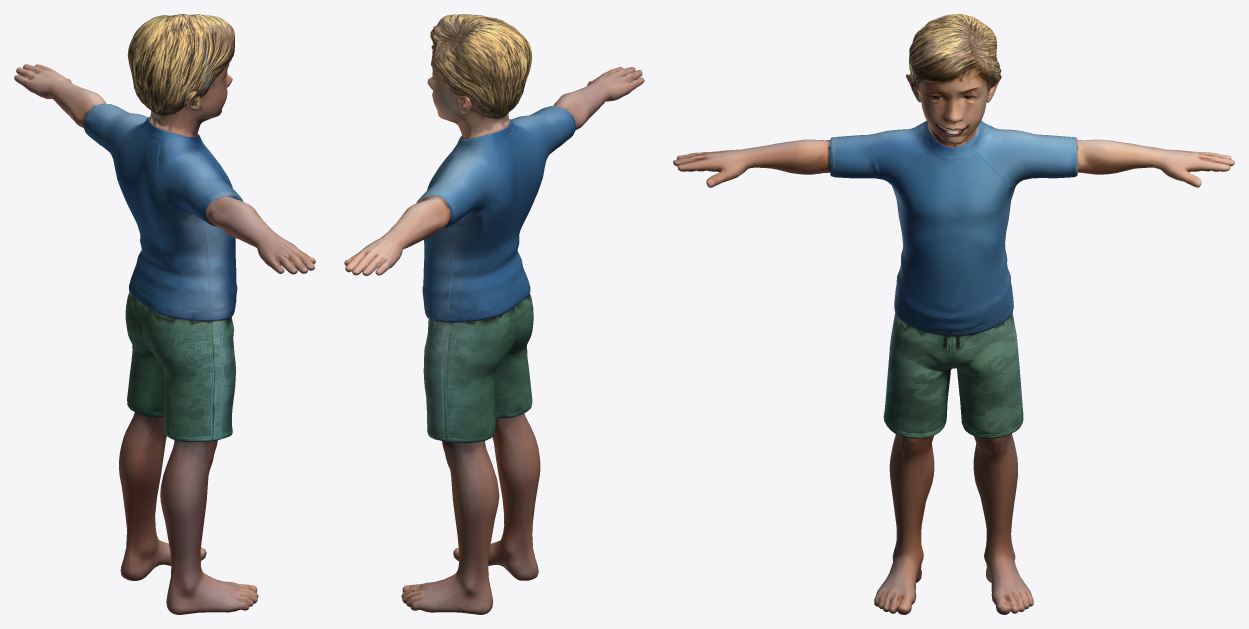
Rendered from theo-2.glb.
3 views of the same model, side by side, from view 1: azimuth 30°, elevation 25°; view 2: azimuth 150°, elevation 25°; view 3: azimuth 270°, elevation 25° (orthographic).
Parts seen in each view (by area): view 1: theo2; view 2: theo2; view 3: theo2.
Part boxes in pixels (x1,y1,x2,y2): theo2: (14,14,315,614); theo2: (344,14,644,614); theo2: (673,14,1234,614).
Bounding box in the file's own units: 0.1754 × 0.9795 × 0.8705.
Materials: 1 (1 with a texture image).
